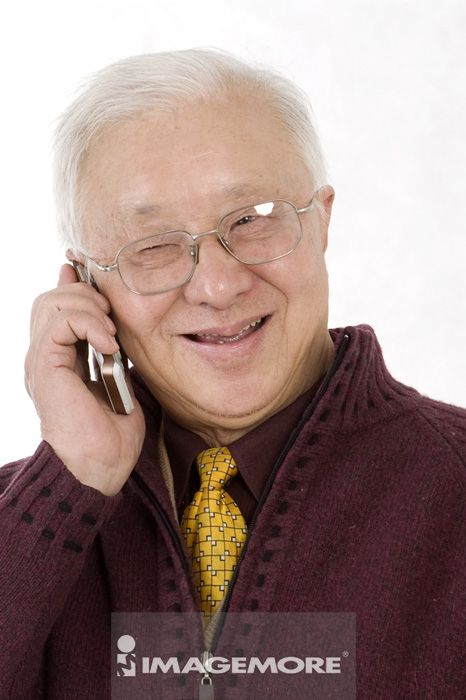phone: (69, 258, 134, 420)
talk: (20, 174, 315, 488)
